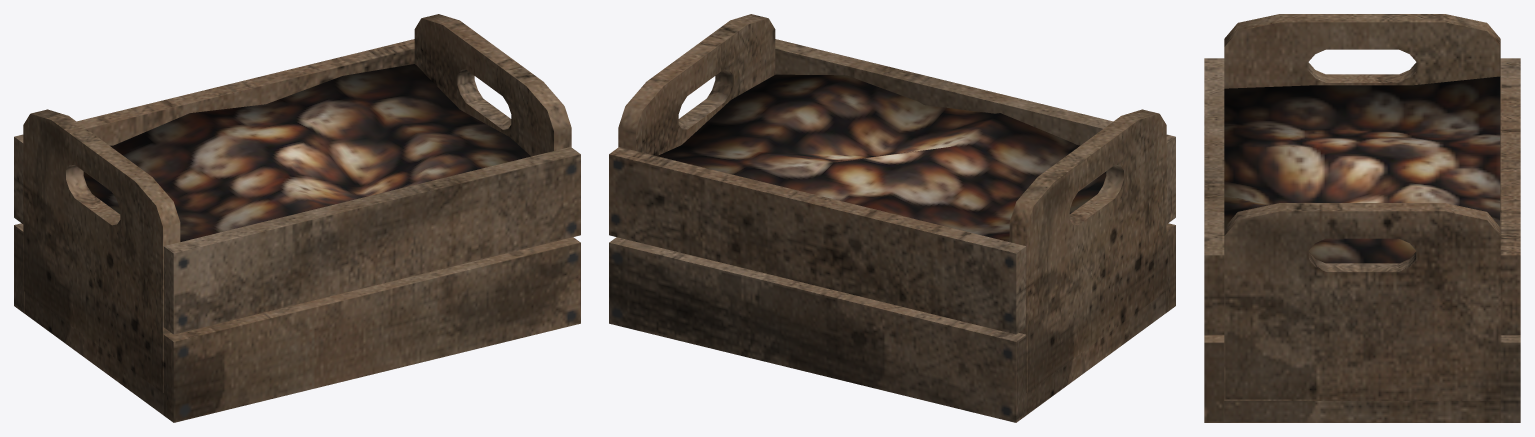
Rendered from WoodenBox.fbx.
3 views of the same model, side by side, from view 1: azimuth 30°, elevation 25°; view 2: azimuth 150°, elevation 25°; view 3: azimuth 270°, elevation 25° (orthographic).
Parts seen in each view (by area): view 1: Box, Contents; view 2: Box, Contents; view 3: Box, Contents.
Part boxes in pixels (x1,y1,x2,y2): Box: (14, 14, 580, 422); Contents: (83, 64, 530, 241); Box: (609, 14, 1175, 422); Contents: (657, 74, 1106, 241); Box: (1204, 14, 1520, 422); Contents: (1224, 76, 1500, 263).
Size of the model in its own units: 50.45 by 25.24 by 34.16.
